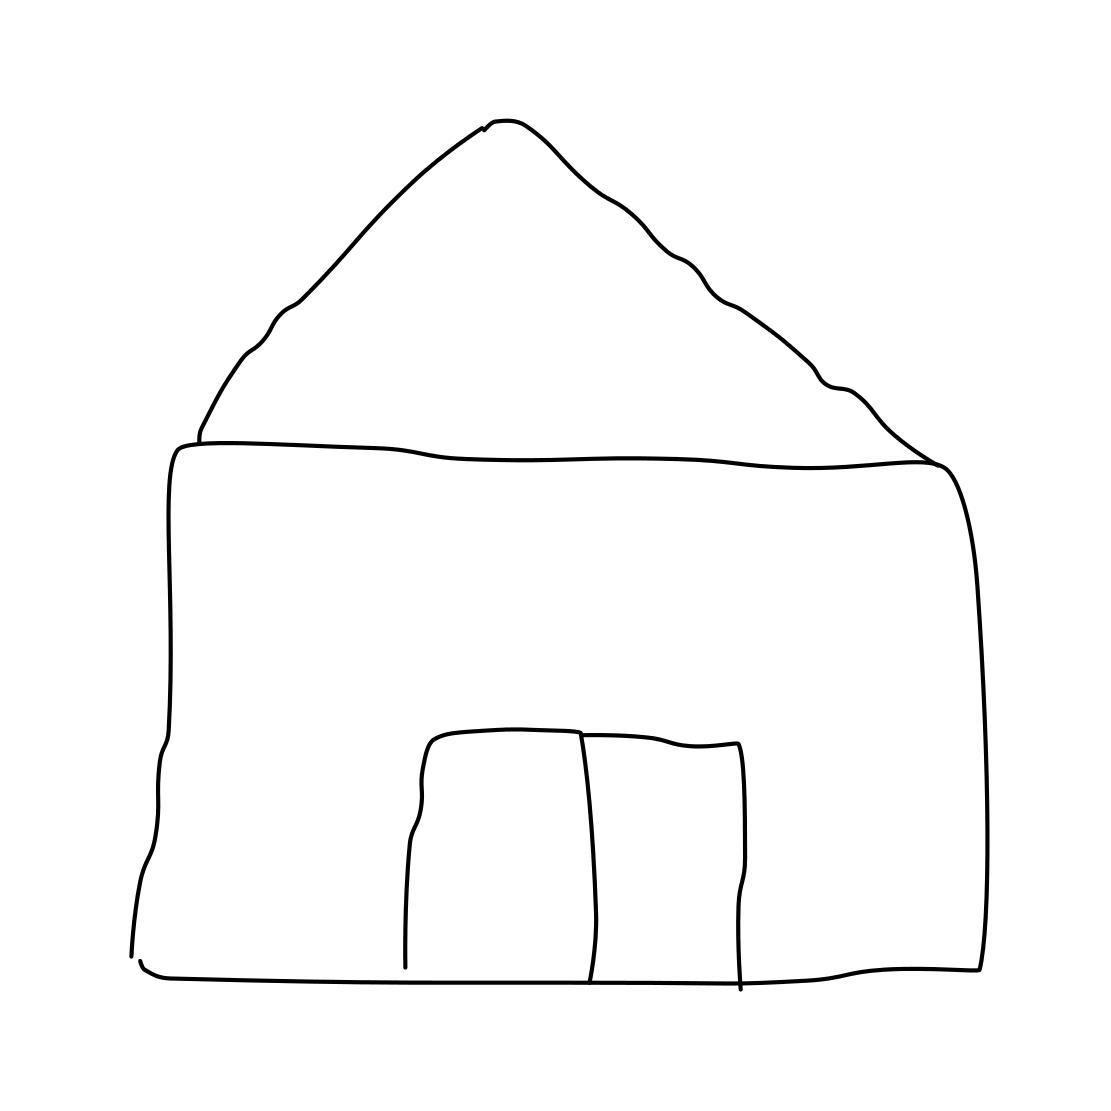House: (103, 76, 1015, 1015)
